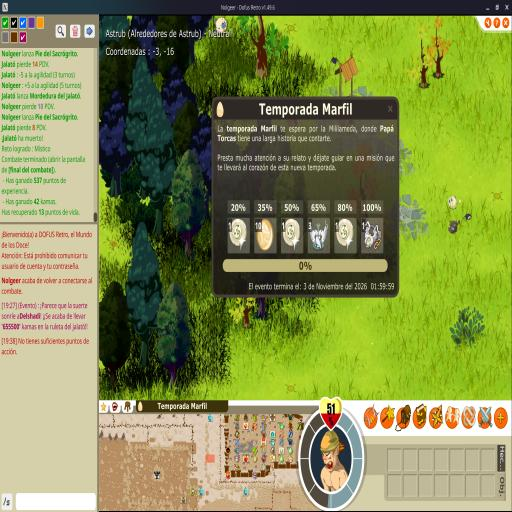Enemigos: (214, 17, 228, 33), (448, 219, 460, 235), (448, 196, 461, 210), (330, 56, 340, 67), (464, 213, 472, 222)
